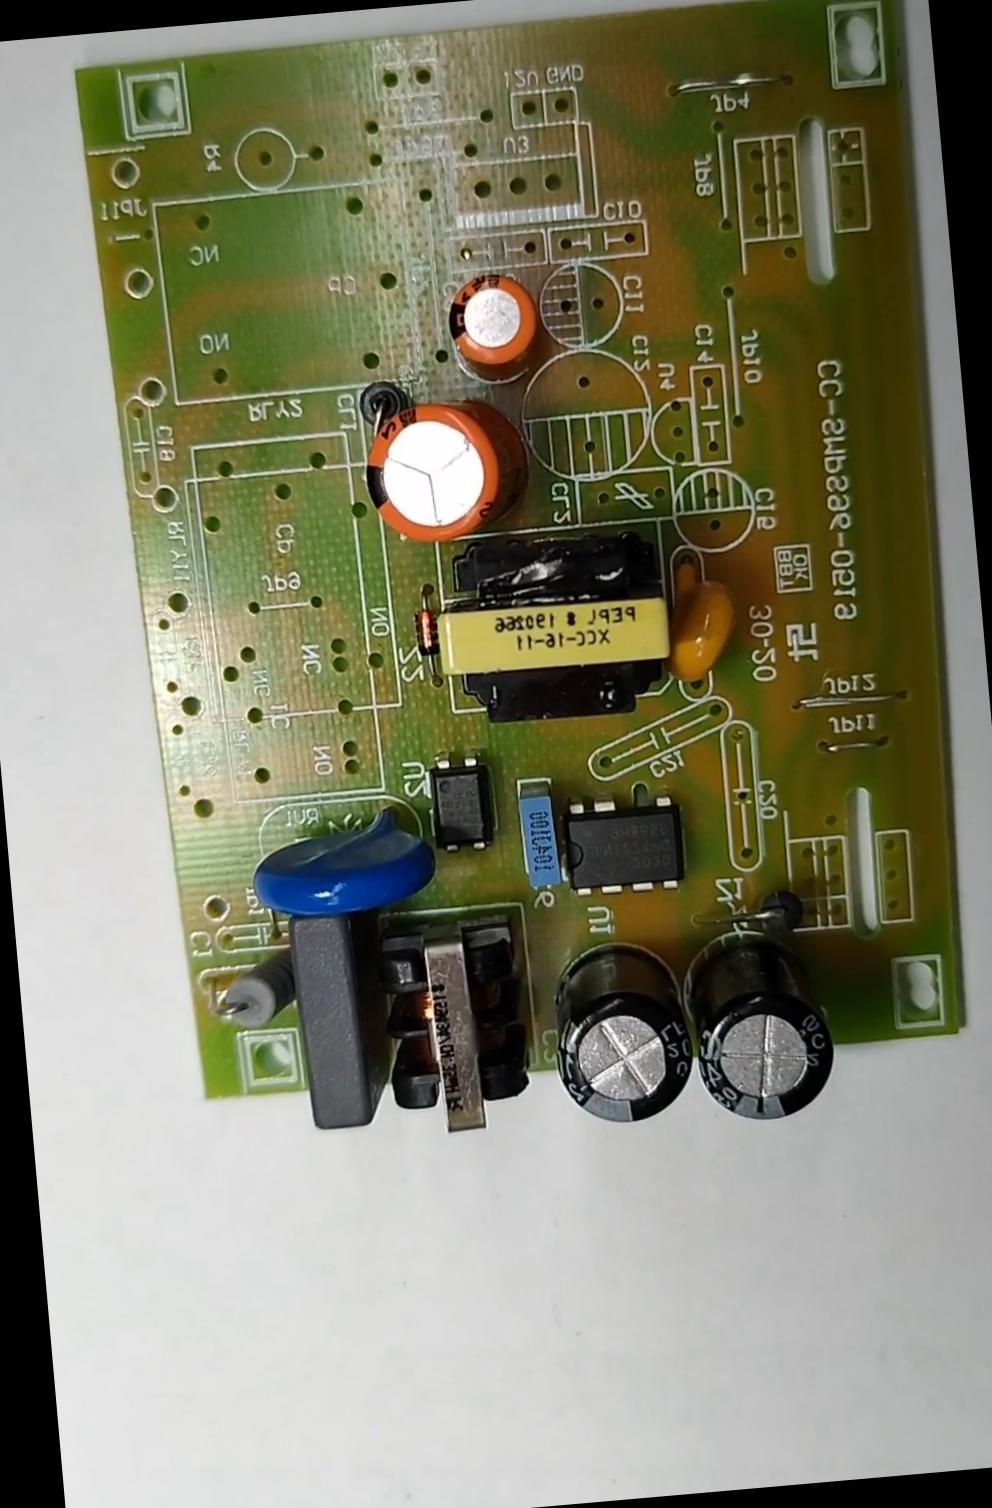Cap1: (356, 388, 531, 547)
Cap2: (441, 267, 541, 371)
Cap3: (542, 933, 699, 1132)
Cap4: (689, 918, 847, 1132)
MOSFET: (558, 789, 690, 902)
Mov: (241, 797, 440, 925)
Resistor: (214, 948, 294, 1034)
Transformer: (441, 527, 683, 724), (371, 921, 537, 1145)
